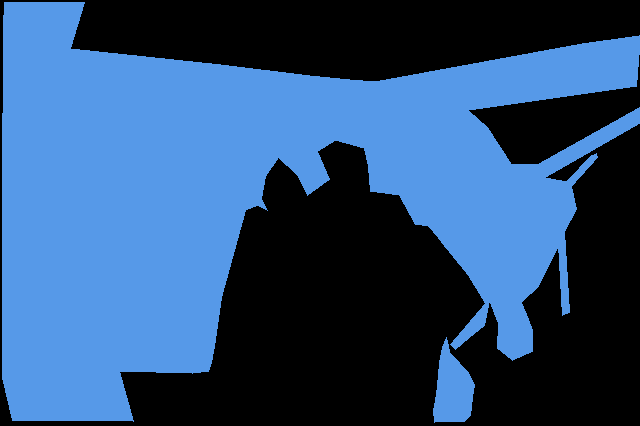Airplane: (2, 2, 640, 423)
